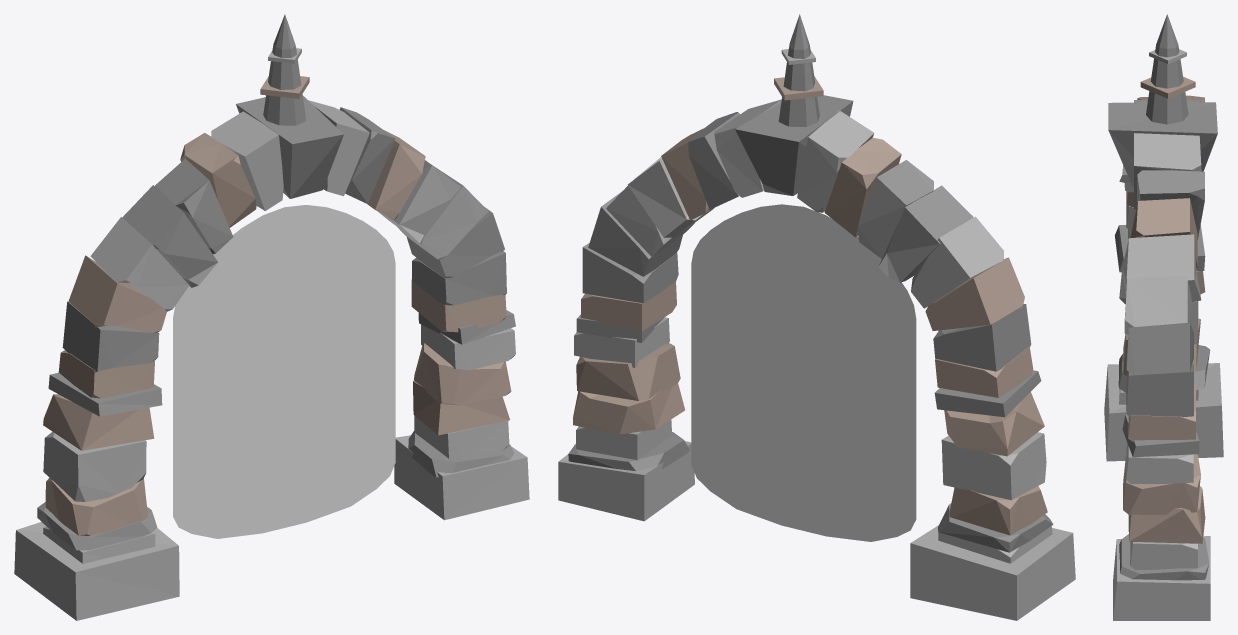
Rendered from portal.fbx.
3 views of the same model, side by side, from view 1: azimuth 30°, elevation 25°; view 2: azimuth 150°, elevation 25°; view 3: azimuth 270°, elevation 25° (orthographic). The views are drawn at different scales.
Parts seen in each view (by area): view 1: Portal, plane; view 2: Portal, plane; view 3: Portal.
Part boxes in pixels (x1,y1,x2,y2): Portal: (14, 14, 529, 620); plane: (173, 205, 395, 538); Portal: (558, 14, 1075, 620); plane: (691, 204, 916, 541); Portal: (1104, 14, 1223, 620).
Bounding box in the file's own units: 6.59 × 7.22 × 1.53.
